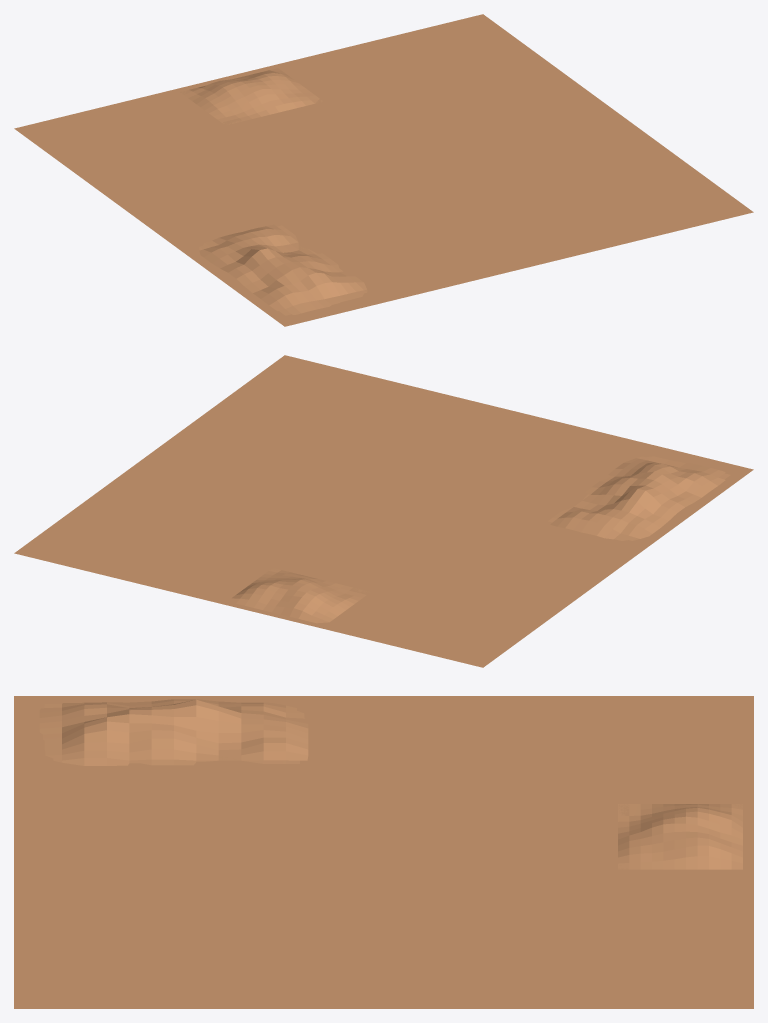
Rendered from Ground.glb.
3 views of the same model, one above another, from view 1: azimuth 30°, elevation 25°; view 2: azimuth 150°, elevation 25°; view 3: azimuth 270°, elevation 25° (orthographic). The views are drawn at different scales.
Parts seen in each view (by area): view 1: Ground; view 2: Ground; view 3: Ground.
Part boxes in pixels (x1=…): Ground: x1=14, y1=14, x2=753, y2=326; Ground: x1=14, y1=355, x2=753, y2=667; Ground: x1=14, y1=696, x2=753, y2=1008.
Bounding box in the file's own units: 100 × 3.64 × 100.
Materials: 2 (2 with a texture image).
